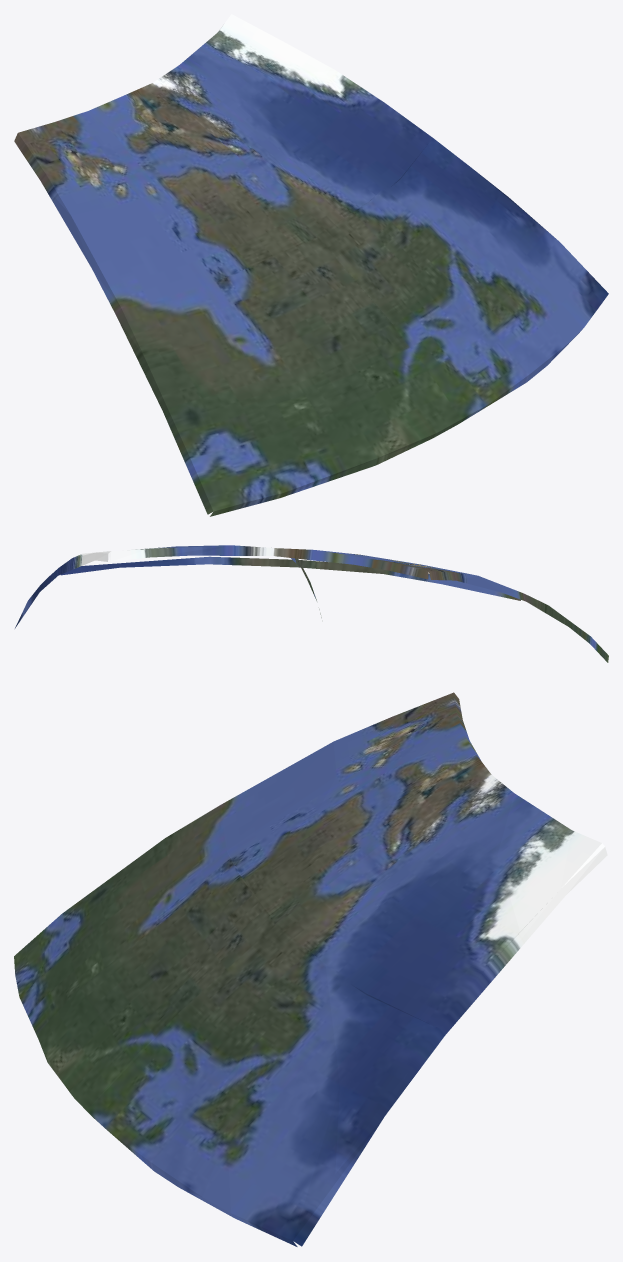
3 views of the same model, one above another, from view 1: azimuth 30°, elevation 25°; view 2: azimuth 150°, elevation 25°; view 3: azimuth 270°, elevation 25° (orthographic). The views are drawn at different scales.
Size of the model in its own units: 3224956 by 1445599 by 2826851.
1 material, 1 textured.
